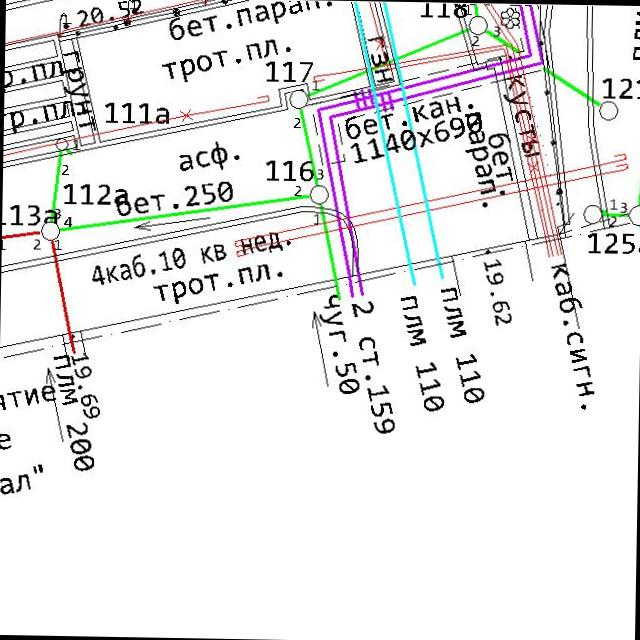asphalt: (178, 140, 240, 174)
bushes: (500, 6, 520, 30)
well: (580, 202, 604, 226), (597, 98, 619, 122), (307, 183, 330, 205), (38, 220, 61, 242), (466, 14, 488, 36), (288, 88, 309, 110), (54, 135, 69, 152)
